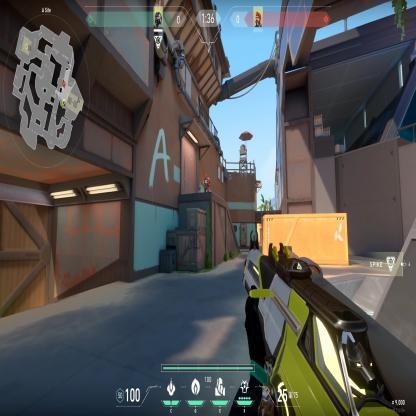enemy: (202, 172, 210, 192)
